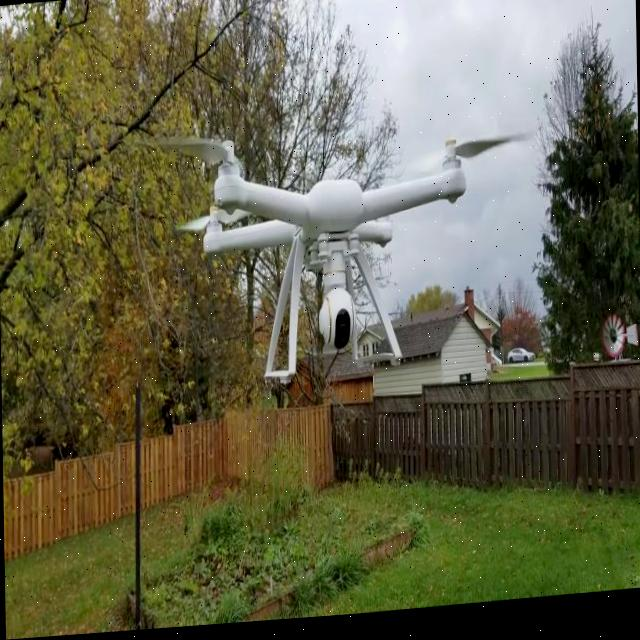drone: (160, 89, 518, 337)
